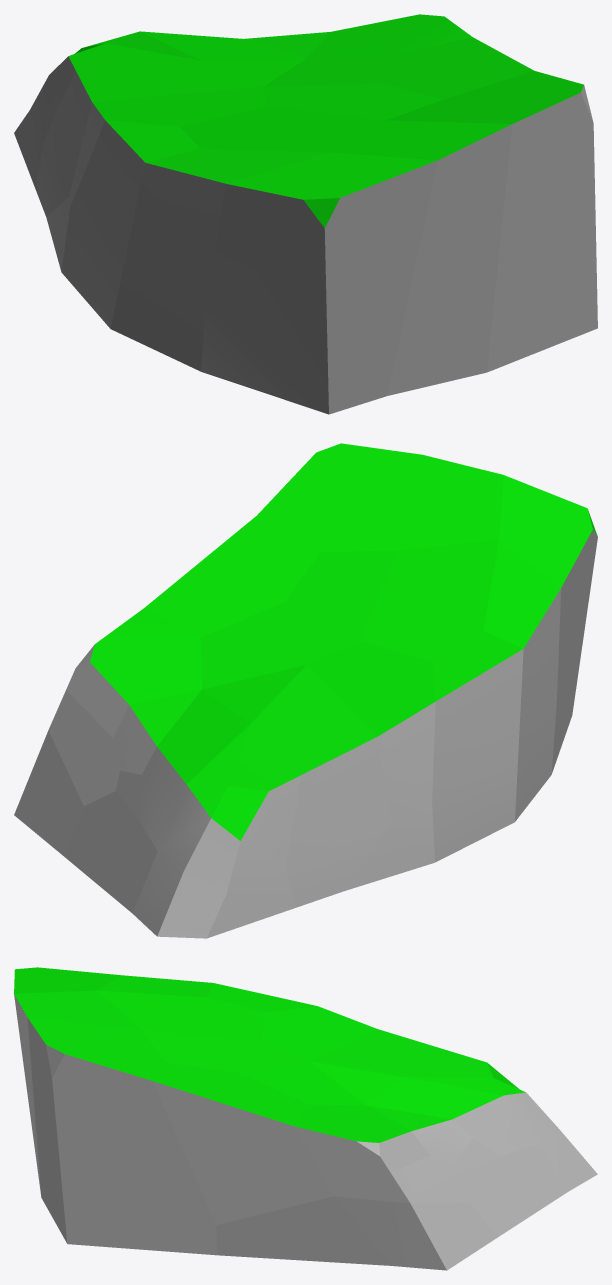
Rendered from rock_beach_medium_G.fbx.
3 renders of one model, top to bottom at view 1: azimuth 30°, elevation 25°; view 2: azimuth 150°, elevation 25°; view 3: azimuth 270°, elevation 25°, orthographic. The views are drawn at different scales.
Visible parts, largest first — view 1: rock_beach_medium_G; view 2: rock_beach_medium_G; view 3: rock_beach_medium_G.
Part boxes in pixels (left/top/right/bottom): rock_beach_medium_G: left=14, top=14, right=597, bottom=414; rock_beach_medium_G: left=14, top=443, right=597, bottom=938; rock_beach_medium_G: left=14, top=967, right=597, bottom=1270.
Size of the model in its own units: 54.34 by 30 by 84.4.
